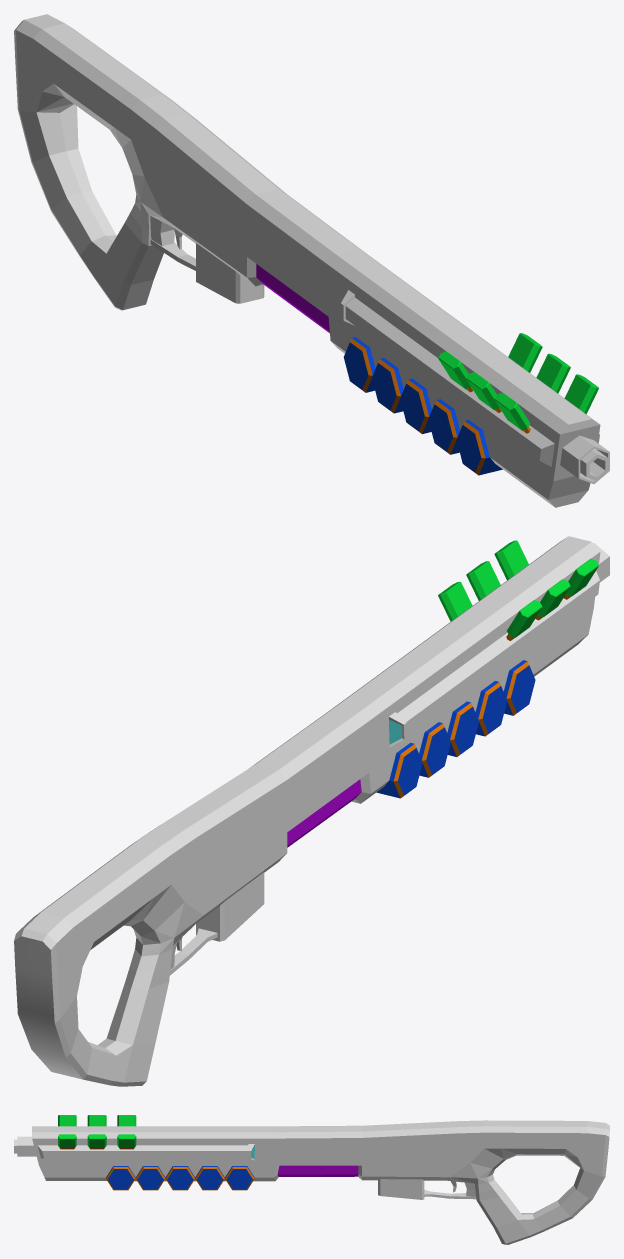
Rendered from Carbine.fbx.
The picture shows the model from 3 angles, top to bottom: view 1: azimuth 30°, elevation 25°; view 2: azimuth 150°, elevation 25°; view 3: azimuth 270°, elevation 25°; orthographic projection. The views are drawn at different scales.
Visible parts, largest first — view 1: Carbine; view 2: Carbine; view 3: Carbine.
Part boxes in pixels (x1,y1,x2,y2): Carbine: [14, 14, 609, 507]; Carbine: [14, 536, 609, 1086]; Carbine: [14, 1115, 609, 1244].
Size of the model in its own units: 9.22 by 22.07 by 100.
